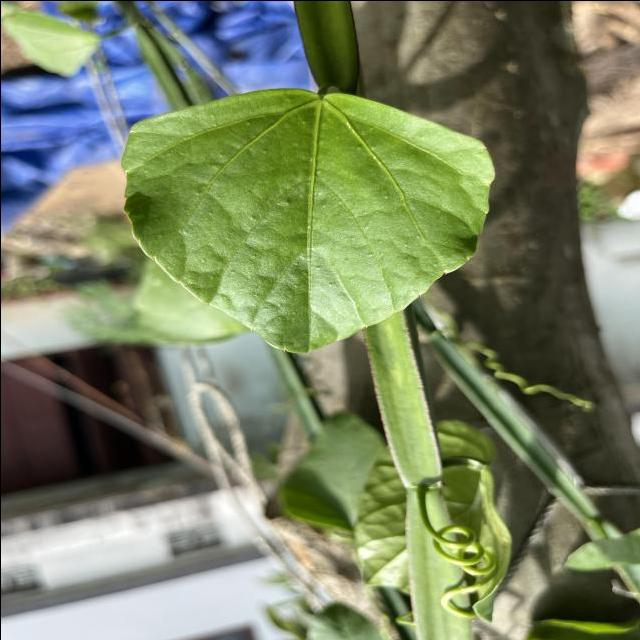Cissus quadrangularis: (114, 82, 498, 360)
